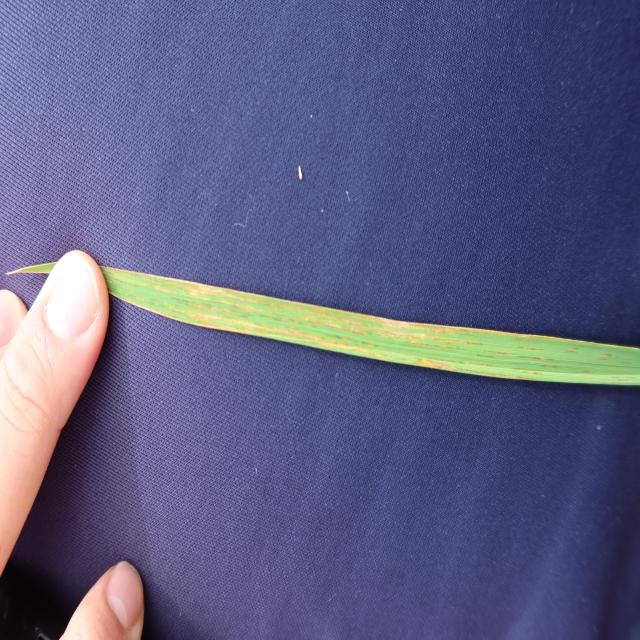Dom soc vi khuan: (199, 287, 484, 347), (171, 307, 349, 347), (391, 356, 532, 381), (115, 269, 198, 298), (357, 317, 458, 335), (306, 317, 370, 337), (213, 299, 276, 314), (121, 280, 177, 294), (261, 315, 317, 329), (198, 322, 251, 334), (406, 340, 445, 349), (486, 350, 517, 356), (522, 355, 552, 361), (361, 340, 380, 349), (517, 346, 544, 351), (541, 365, 561, 369)
